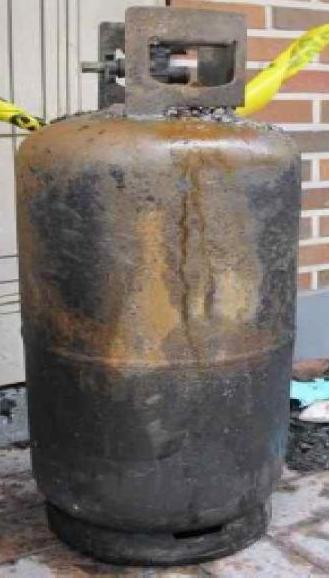cylinder: (1, 0, 329, 578)
